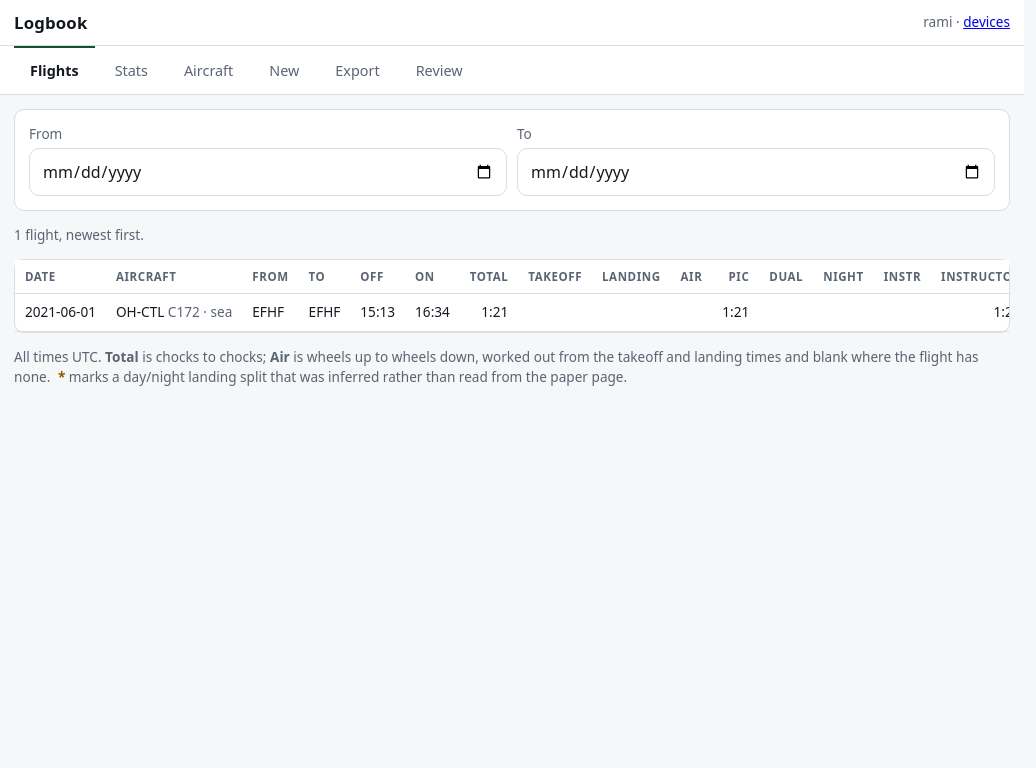
Test case: the statistics page › shows the twelve figures as H:MM
The width and height of the screenshot is (1036, 768).
Click the link "Stats" at (131, 71), box [115,61,148,80]
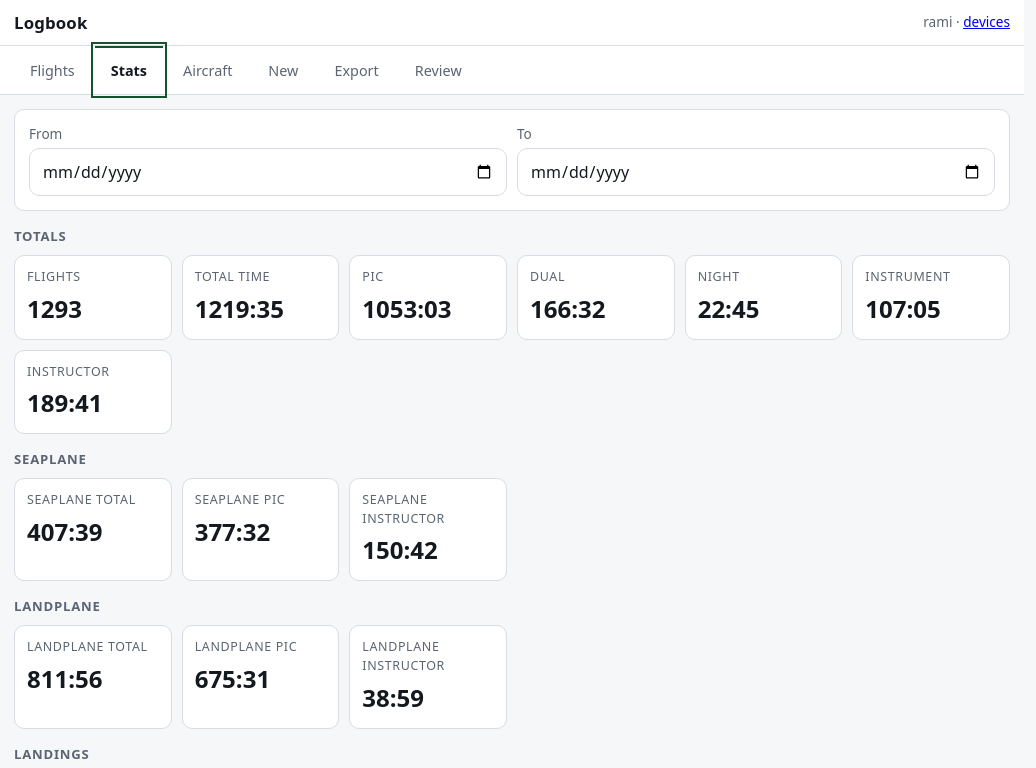
Check: the text "1219:35" is shown, box [195,292,284,325]
Check: the text "1053:03" is shown, box [362,292,452,325]
Check: the text "407:39" is shown, box [27,515,102,548]
